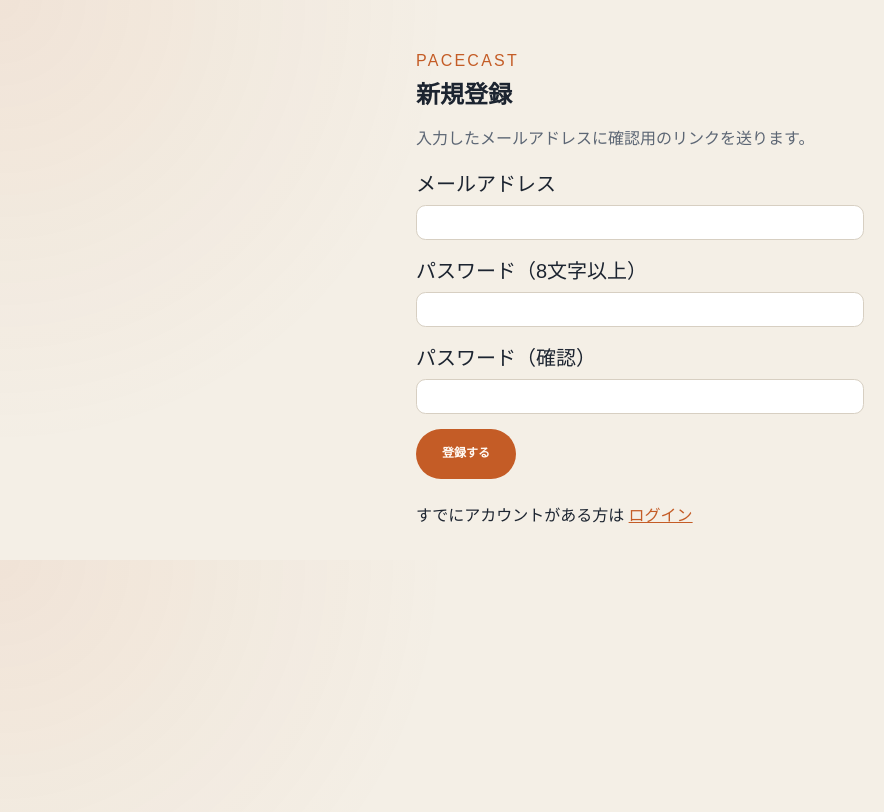
Test: 新規登録 › パスワードが違うと送らない
Type "runner@example.com" into the field labelled "メールアドレス".
click(640, 223); type("runner@example.com")  # box [416, 205, 864, 240]
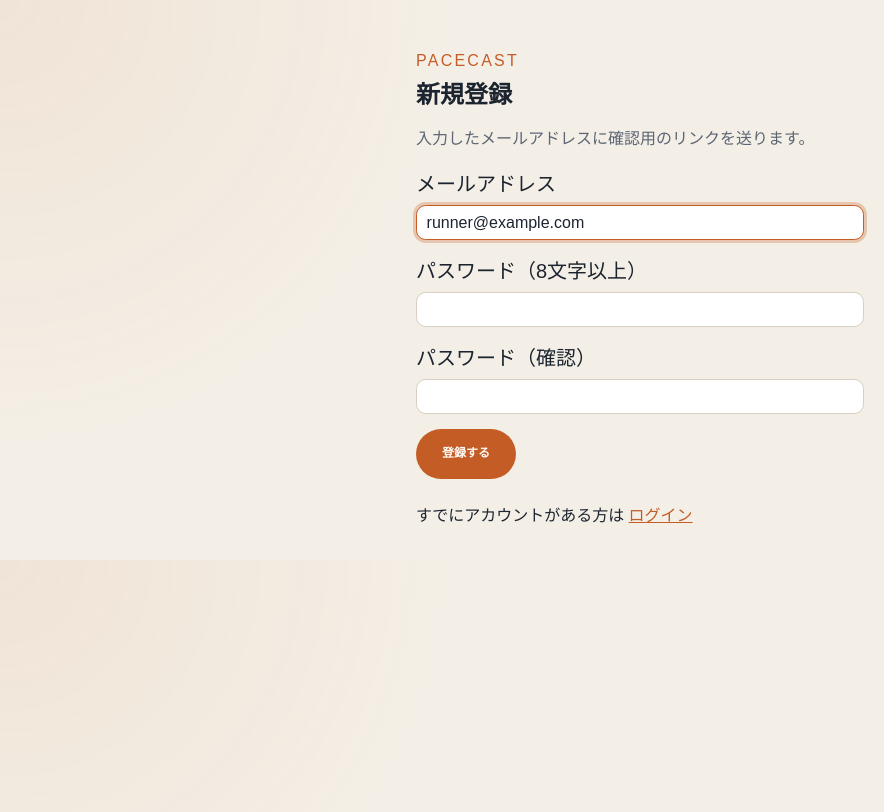
Type "secret123" into the password field labelled "パスワード（8文字以上）".
click(640, 310); type("secret123")  # box [416, 292, 864, 327]
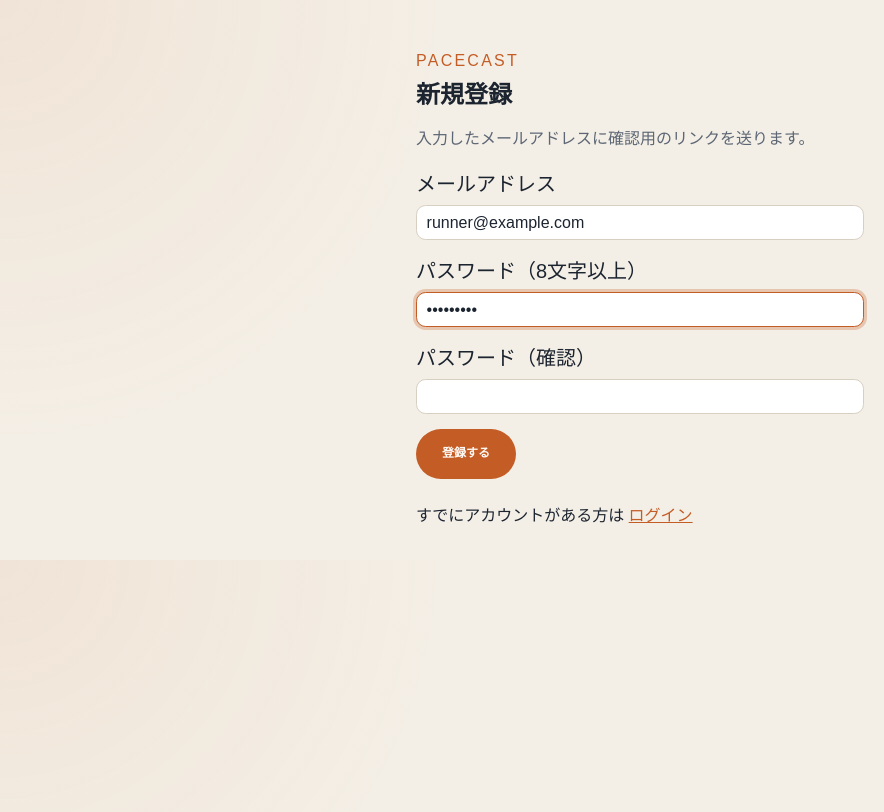
Type "secret999" into the password field labelled "パスワード（確認）".
click(640, 397); type("secret999")  # box [416, 379, 864, 414]
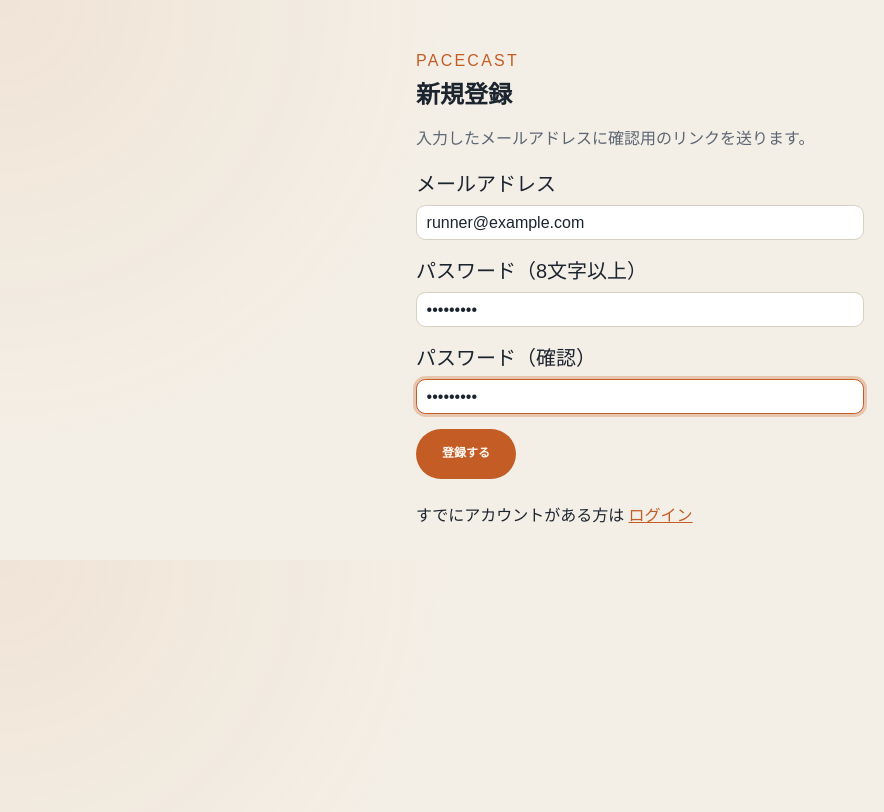
Click the button "登録する".
click(466, 454)  # box [416, 428, 516, 478]
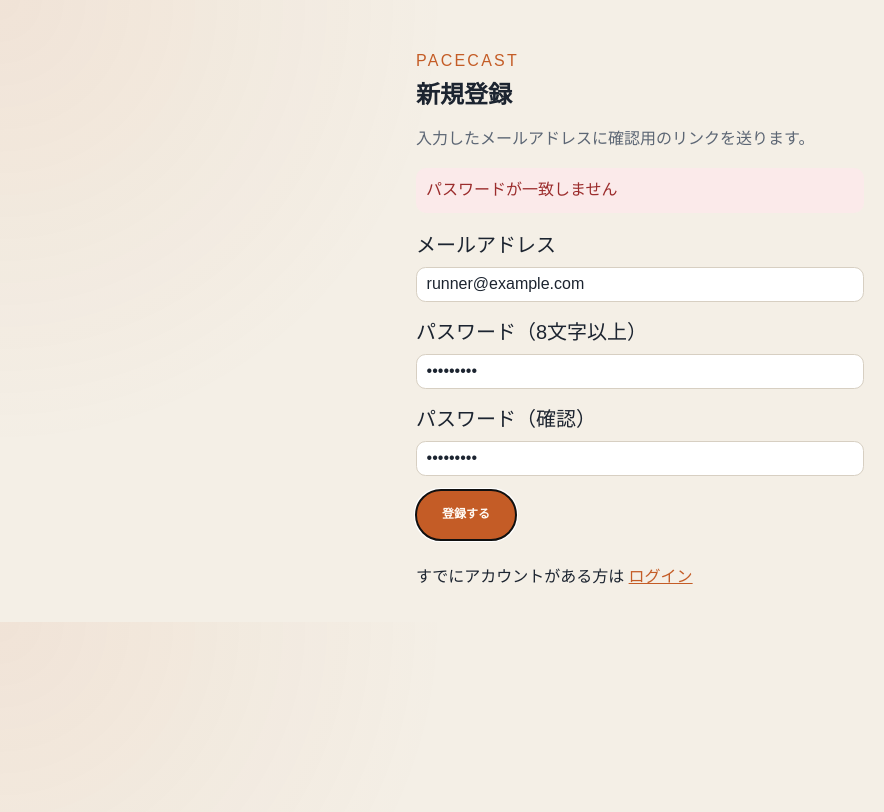
Now the text "パスワードが一致しません" is shown, box [416, 168, 864, 213]
